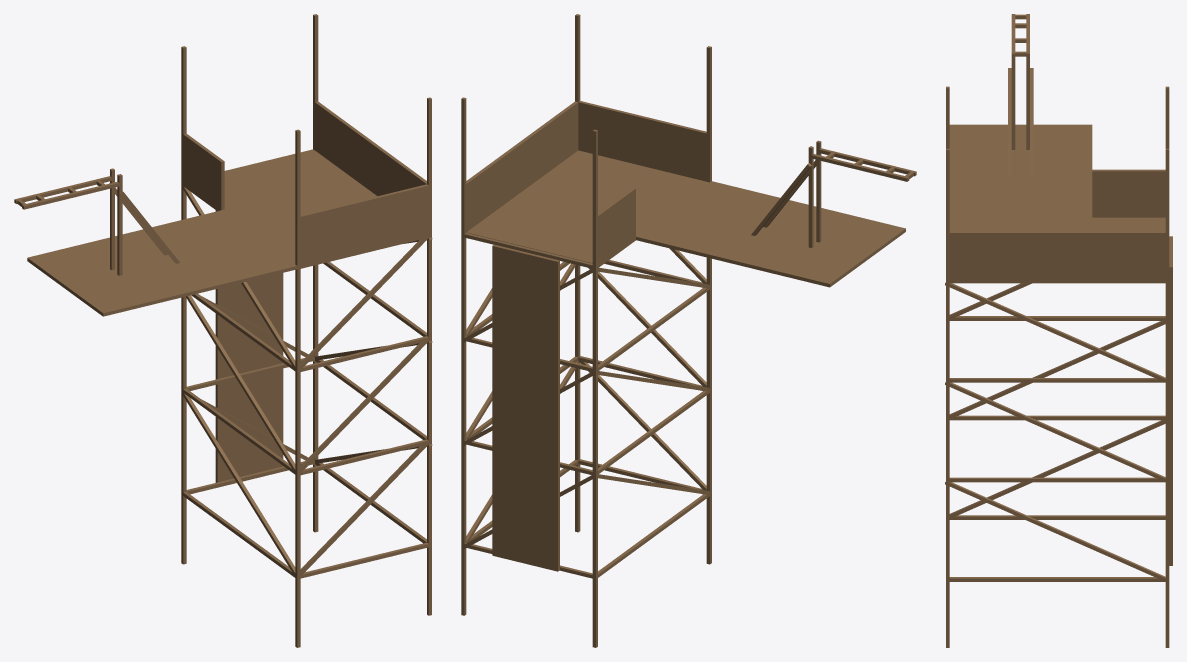
Rendered from WoodenFrame.obj.
3 renders of one model, left to right at view 1: azimuth 30°, elevation 25°; view 2: azimuth 150°, elevation 25°; view 3: azimuth 270°, elevation 25°, orthographic. The views are drawn at different scales.
Parts seen in each view (by area): view 1: WoodenFrame; view 2: WoodenFrame; view 3: WoodenFrame.
Boxes of the visible parts, x1,y1,x2,y2 form: WoodenFrame: (14, 14, 432, 647); WoodenFrame: (461, 14, 916, 647); WoodenFrame: (945, 14, 1172, 647).
Bounding box in the file's own units: 11.37 × 15 × 6.22.
